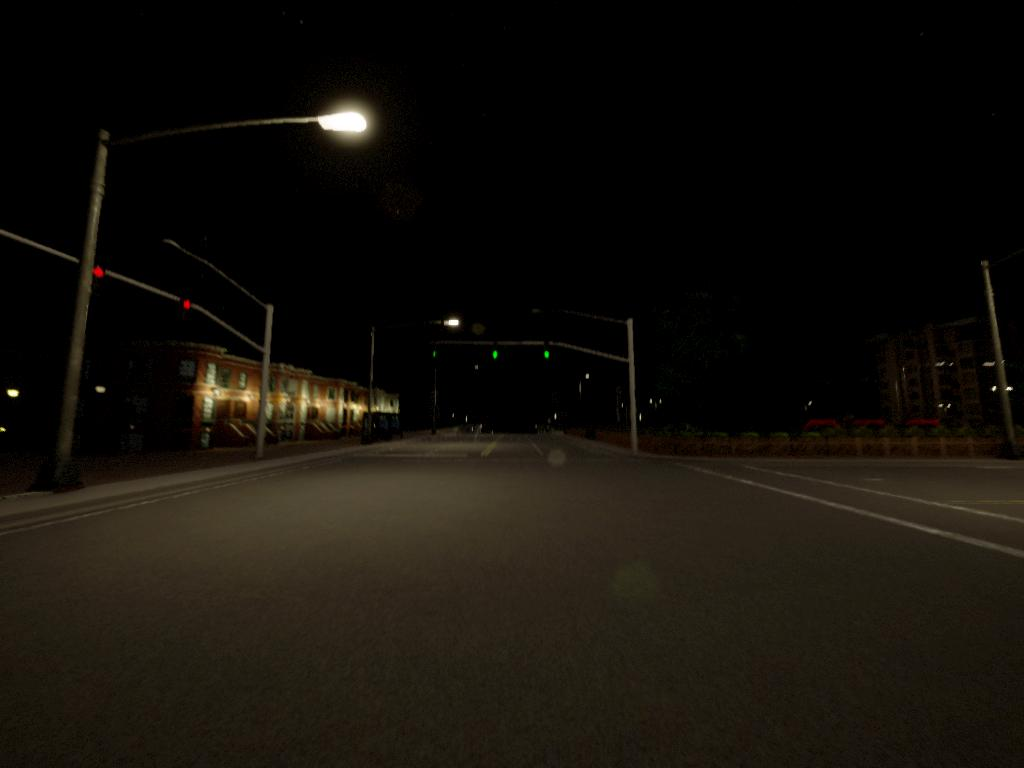traffic_light: (93, 264, 105, 299), (180, 295, 191, 325), (432, 345, 441, 369), (492, 341, 501, 362), (545, 339, 551, 360)
